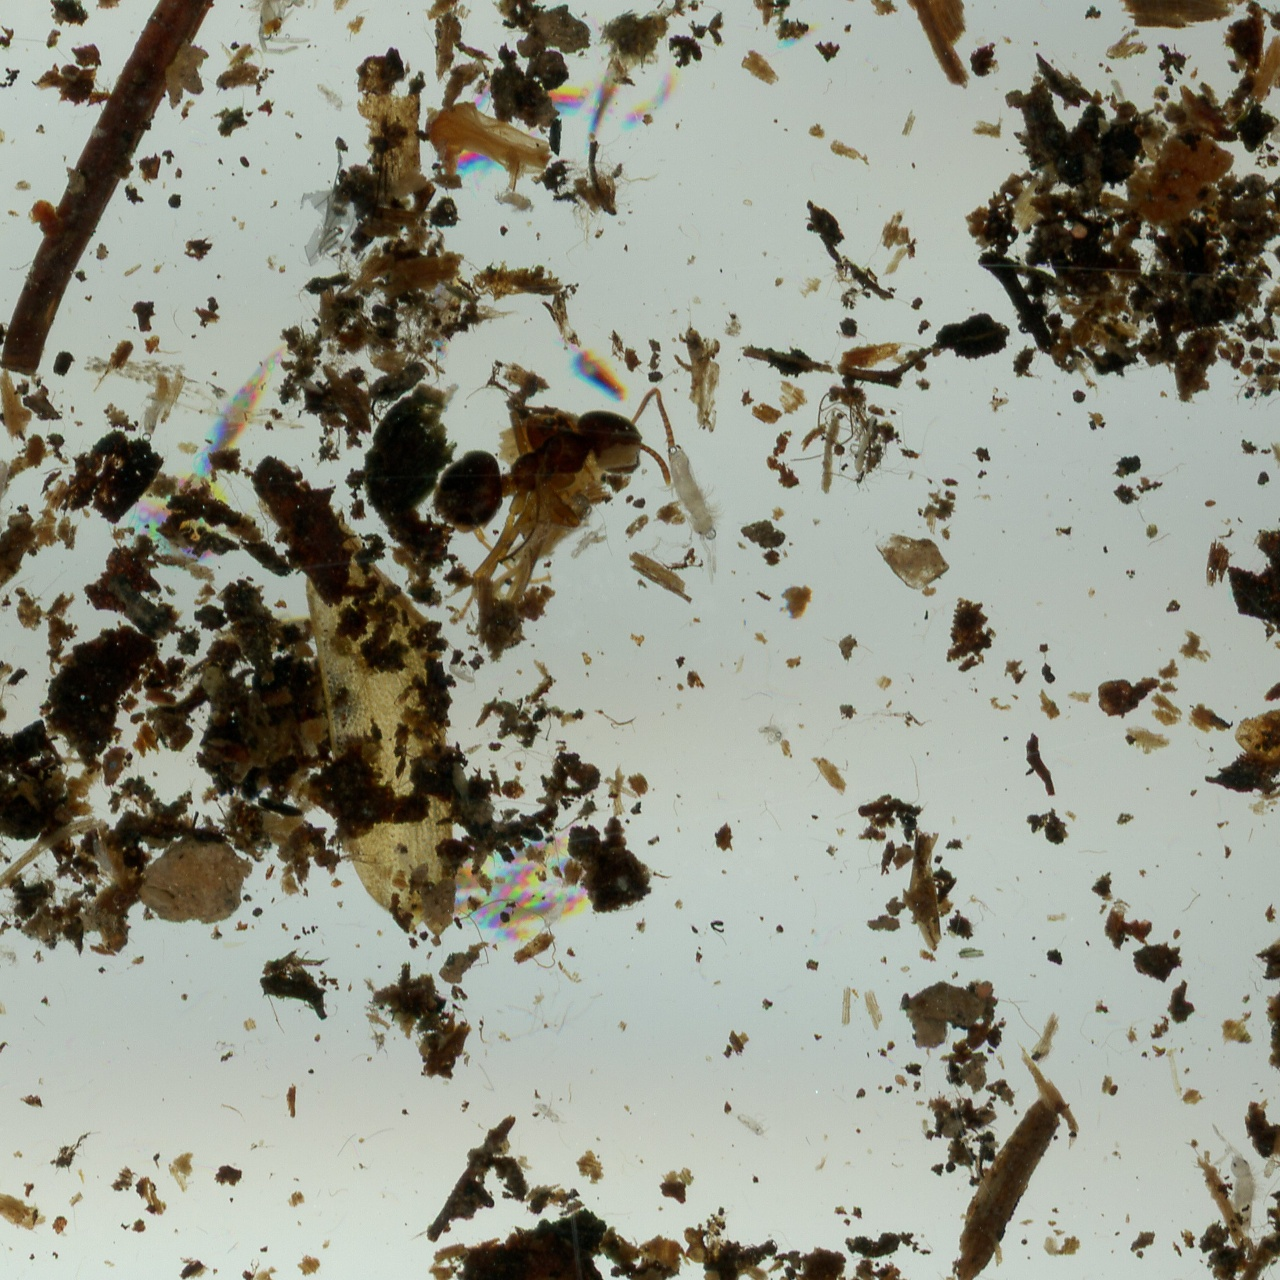arthropod: (421, 386, 710, 610), (653, 442, 744, 585), (240, 0, 358, 68), (1210, 1118, 1269, 1242), (0, 311, 23, 482), (720, 1096, 783, 1146), (531, 880, 579, 942), (307, 70, 358, 120), (135, 367, 169, 440), (0, 448, 18, 565), (529, 1089, 571, 1130), (90, 825, 120, 884), (448, 645, 478, 696), (492, 189, 538, 217), (754, 712, 789, 747), (1268, 87, 1280, 151), (0, 944, 23, 972), (504, 433, 511, 437)
